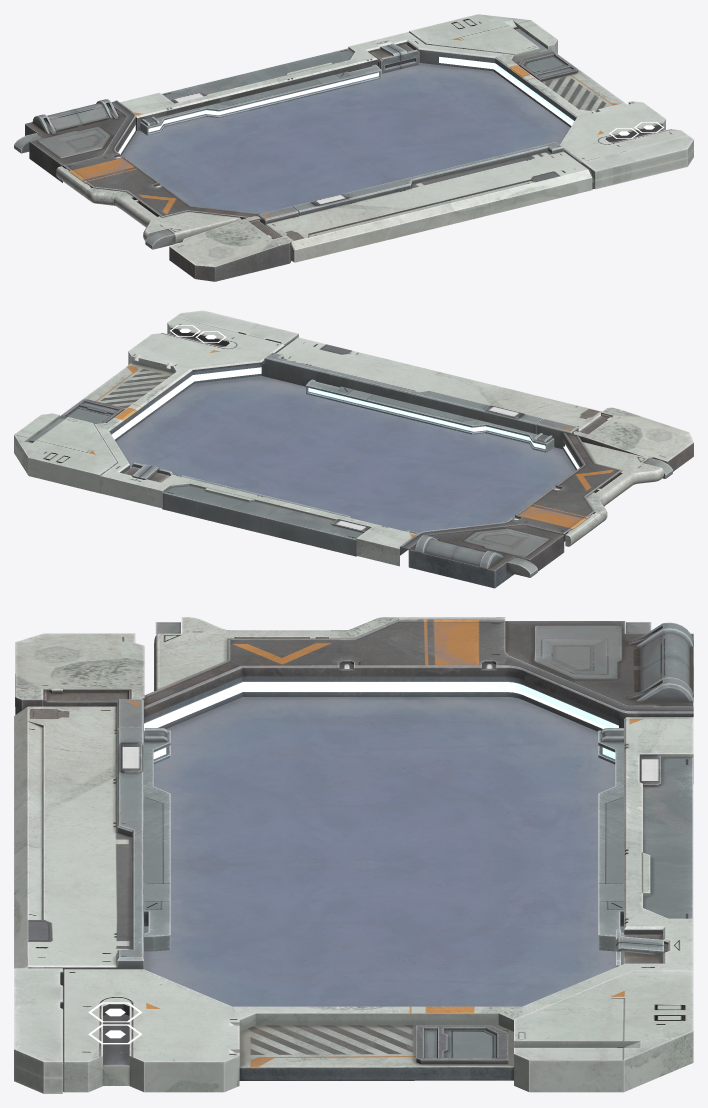
Rendered from sci_-fi_graphics_tablet.glb.
3 views of the same model, one above another, from view 1: azimuth 30°, elevation 25°; view 2: azimuth 150°, elevation 25°; view 3: azimuth 270°, elevation 25° (orthographic). The views are drawn at different scales.
Parts seen in each view (by area): view 1: Black.014; view 2: Black.014; view 3: Black.014.
Part boxes in pixels (x1,y1,x2,y2): Black.014: (14,14,693,281); Black.014: (14,310,693,588); Black.014: (14,617,693,1093).
Bounding box in the file's own units: 30.52 × 1.67 × 19.69.
1 material, 1 textured.
